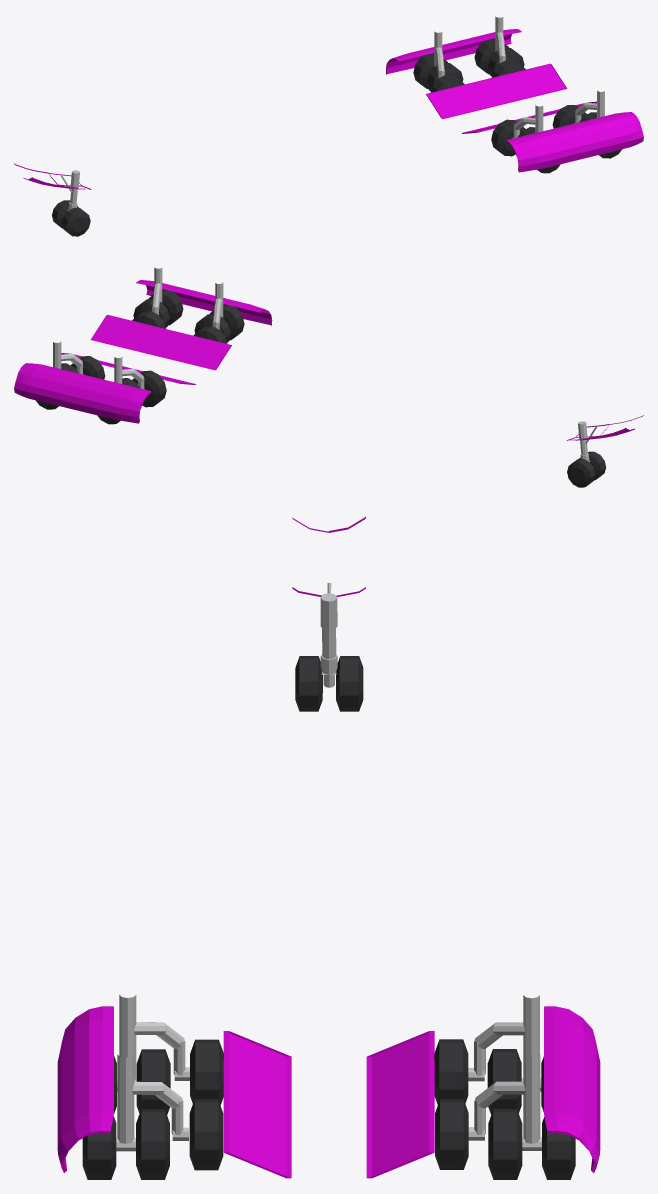
Rendered from c17.gear.glb.
The picture shows the model from 3 angles, top to bottom: view 1: azimuth 30°, elevation 25°; view 2: azimuth 150°, elevation 25°; view 3: azimuth 270°, elevation 25°; orthographic projection. The views are drawn at different scales.
Visible parts, largest first — view 1: gear; view 2: gear; view 3: gear.
Boxes of the visible parts, box(x1,y1,x2,y2) form: gear: box(14, 16, 643, 236); gear: box(14, 267, 643, 487); gear: box(57, 516, 600, 1179).
Size of the model in its own units: 23.05 by 2.91 by 9.78.
